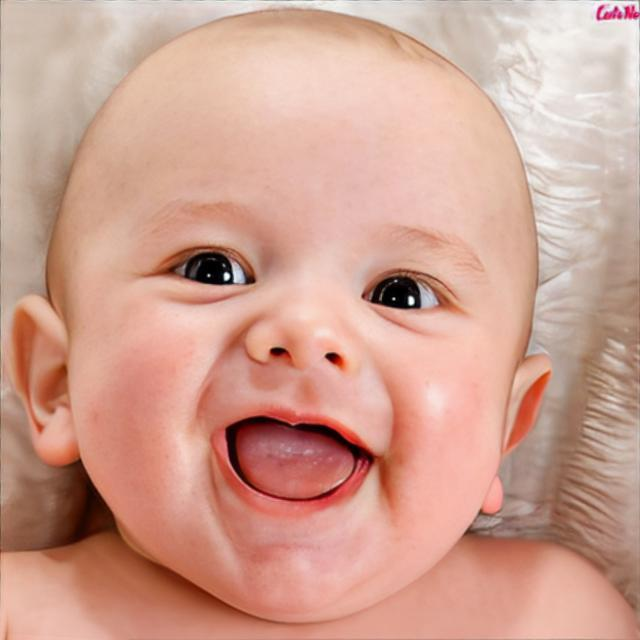surprise: (71, 67, 512, 624)
